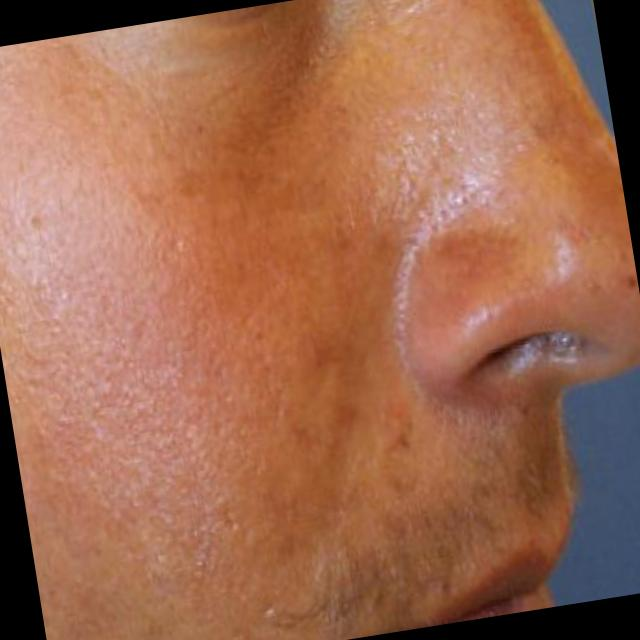melasma: (0, 4, 398, 640)
